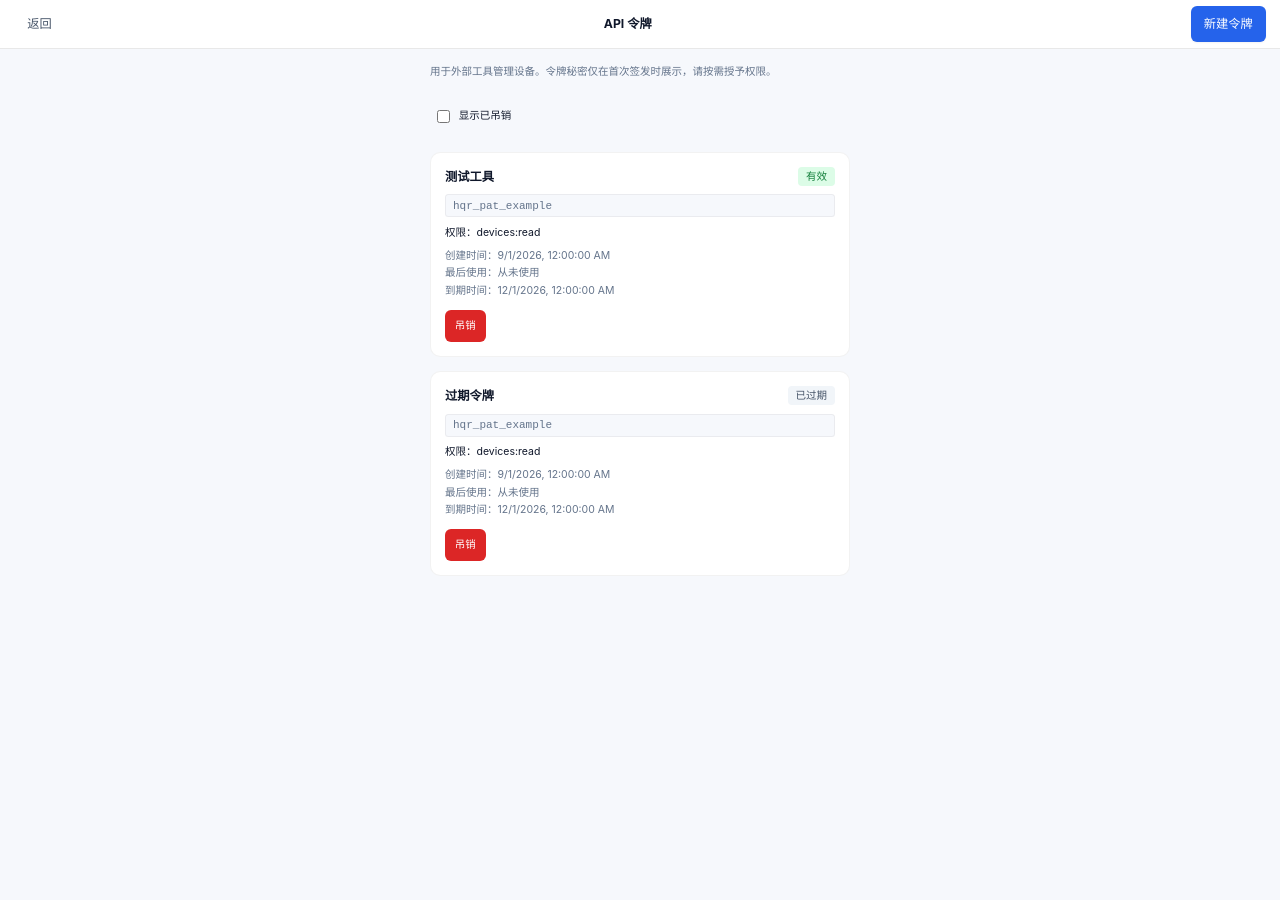
D50 API token page › lists metadata and filters revoked tokens by default
This screenshot has width=1280, height=900.
Expected: the text "旧令牌" is not shown
Click the checkbox labelled "显示已吊销": [444, 116] box [437,110,450,123]
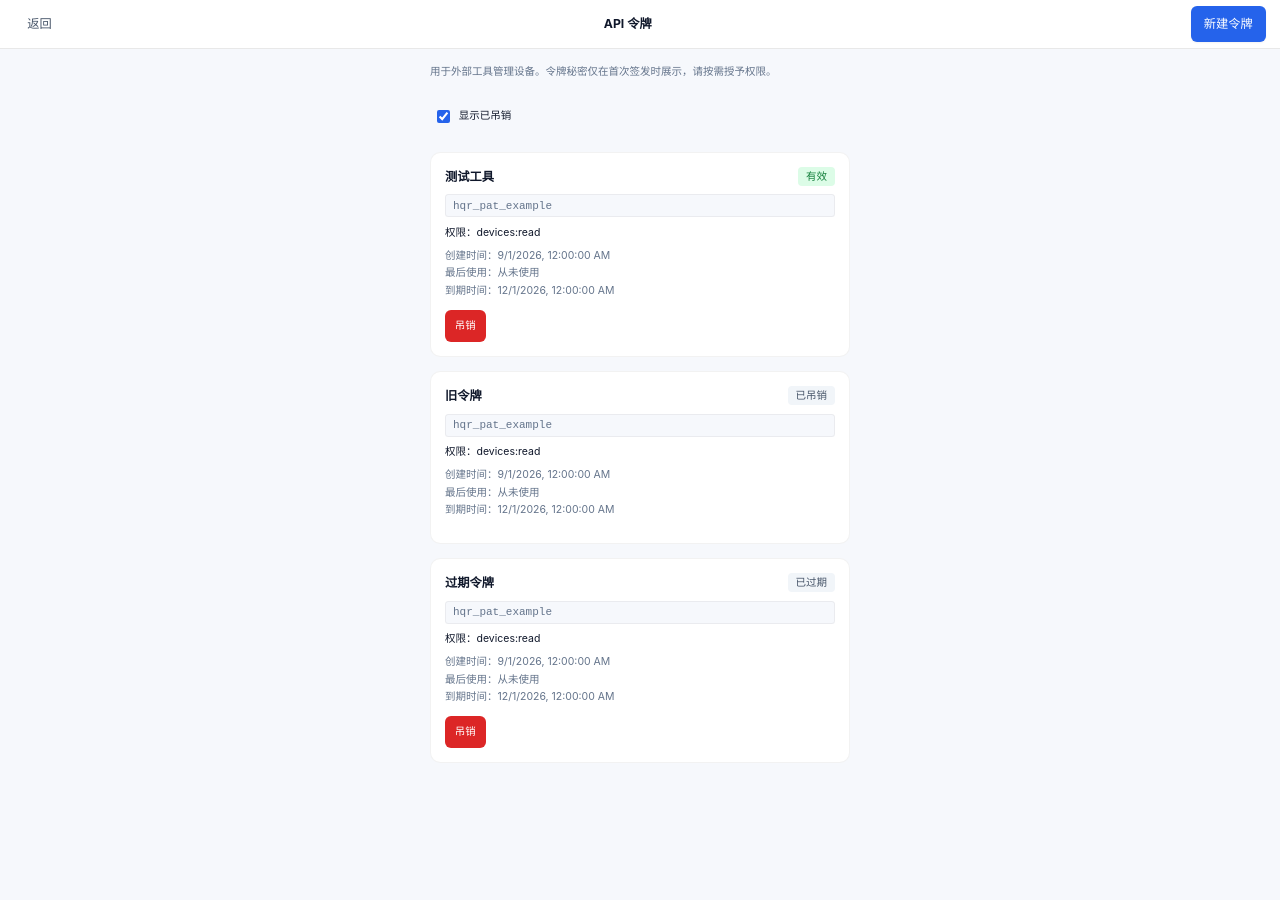
Expected: the text "旧令牌" is shown, [445,387,482,404]
